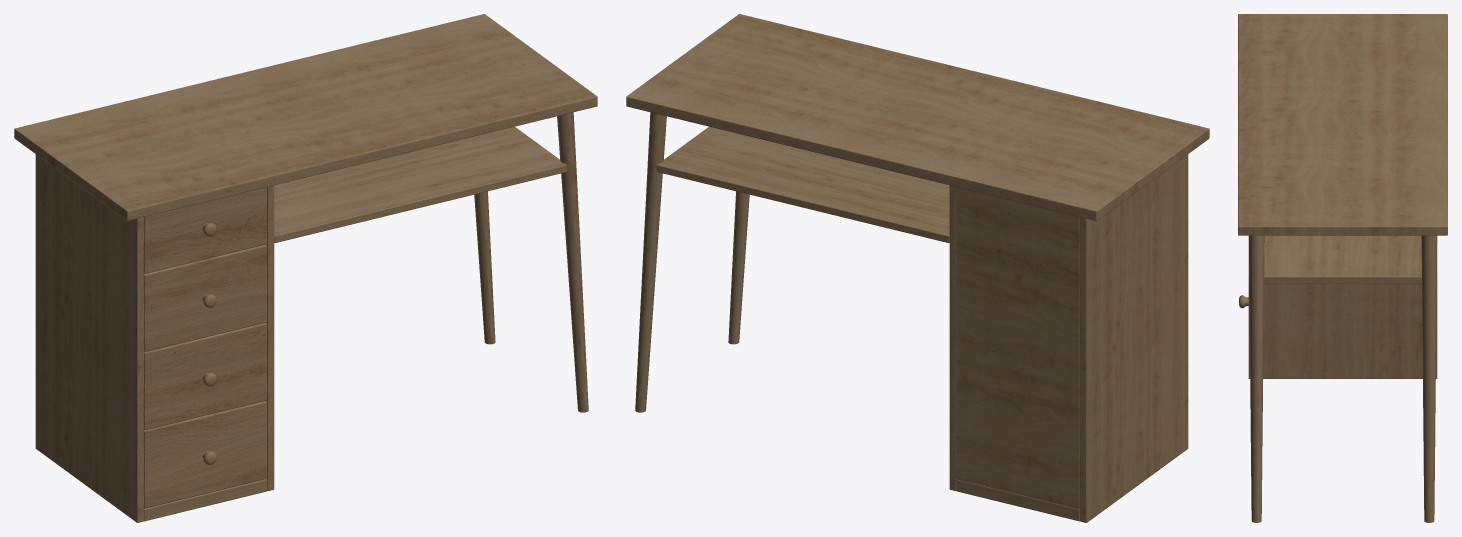
The model's file is desk.glb.
3 views of the same model, side by side, from view 1: azimuth 30°, elevation 25°; view 2: azimuth 150°, elevation 25°; view 3: azimuth 270°, elevation 25° (orthographic). The views are drawn at different scales.
Parts seen in each view (by area): view 1: Box2131645143, Box2131645171, Box2131645146, Box2131645170, Line1789529686, Box2131645147; view 2: Box2131645143, Box2131645169, Box2131645146, Box2131645170, Line1789529686, Box2131645147; view 3: Box2131645143, Box2131645146, Box2131645170, Line1789529686.
Part boxes in pixels (bbox=[...]): Box2131645143: bbox=[14, 14, 597, 220]; Box2131645171: bbox=[144, 187, 266, 508]; Box2131645146: bbox=[35, 154, 274, 522]; Box2131645170: bbox=[274, 126, 567, 242]; Line1789529686: bbox=[474, 112, 588, 412]; Box2131645147: bbox=[144, 479, 267, 521]; Box2131645143: bbox=[626, 14, 1209, 220]; Box2131645169: bbox=[956, 187, 1079, 509]; Box2131645146: bbox=[949, 154, 1188, 522]; Box2131645170: bbox=[656, 126, 949, 242]; Line1789529686: bbox=[635, 112, 749, 412]; Box2131645147: bbox=[956, 479, 1079, 521]; Box2131645143: bbox=[1238, 14, 1447, 235]; Box2131645146: bbox=[1248, 283, 1437, 378]; Box2131645170: bbox=[1248, 235, 1437, 283]; Line1789529686: bbox=[1248, 235, 1437, 522].
Size of the model in its own units: 1.2 by 0.78 by 0.5.
1 material, 1 textured.
